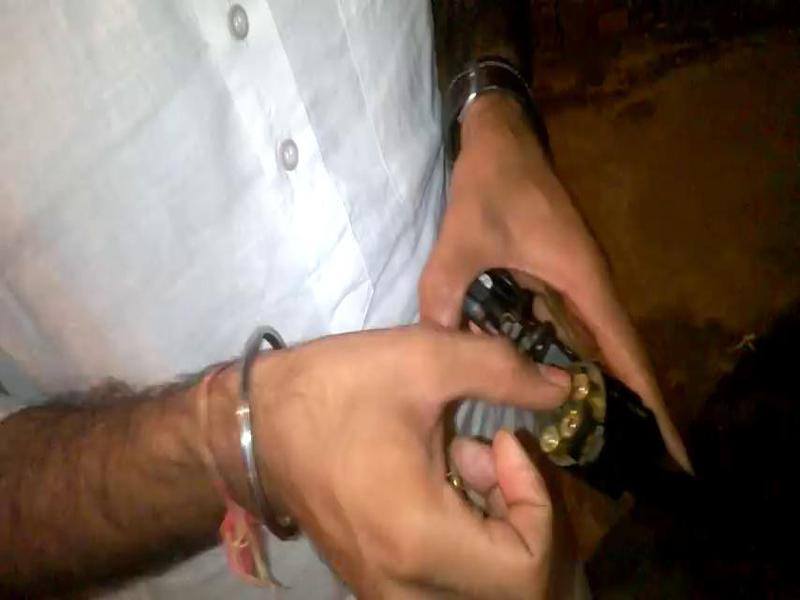Revolver: (410, 224, 746, 564)
